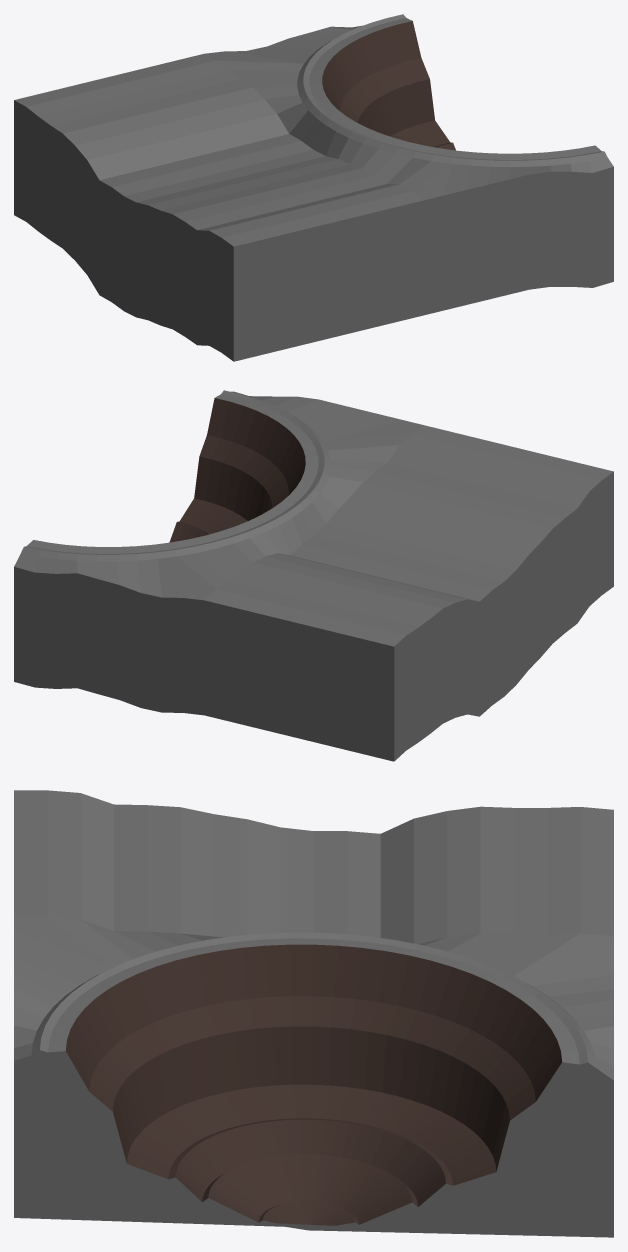
The model's file is Pit Tile Left.fbx.
3 renders of one model, top to bottom at view 1: azimuth 30°, elevation 25°; view 2: azimuth 150°, elevation 25°; view 3: azimuth 270°, elevation 25°, orthographic. The views are drawn at different scales.
Visible parts, largest first — view 1: Left Pit Tile; view 2: Left Pit Tile; view 3: Left Pit Tile.
Boxes of the visible parts, x1=… form: Left Pit Tile: x1=14, y1=14, x2=613, y2=361; Left Pit Tile: x1=14, y1=390, x2=613, y2=761; Left Pit Tile: x1=14, y1=790, x2=613, y2=1237.
Size of the model in its own units: 200 by 73.73 by 200.
